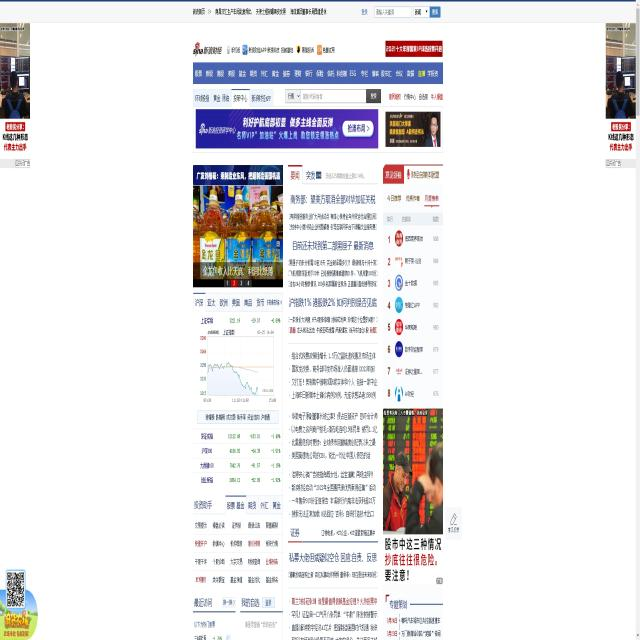menu-bar: (190, 2, 330, 20)
search: (285, 89, 382, 102)
side-panel: (380, 156, 449, 640)
tab-bar: (193, 61, 442, 84), (189, 289, 284, 311), (221, 493, 281, 514)
